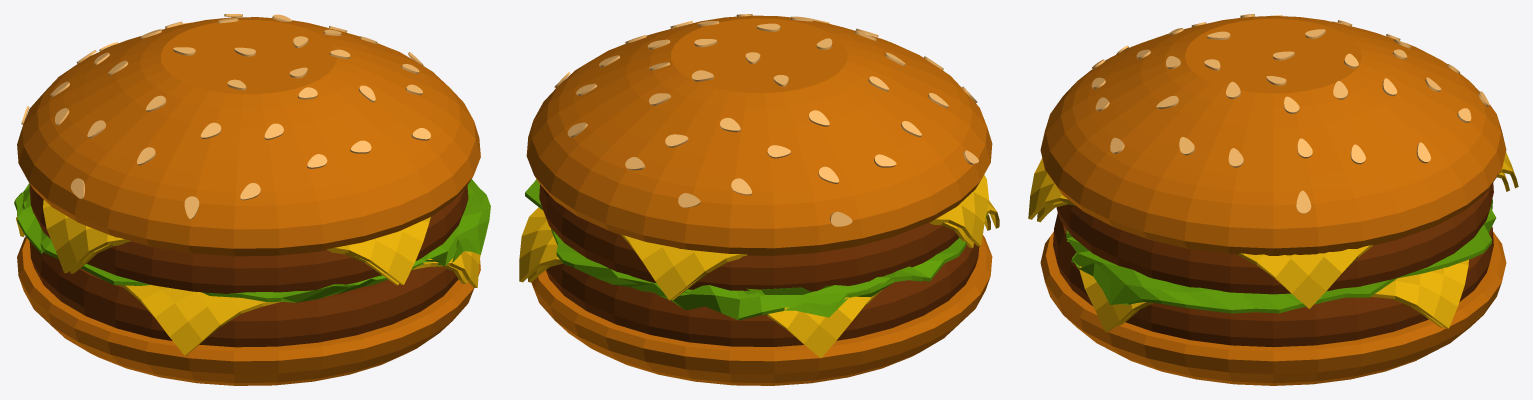
The model's file is burger.glb.
The picture shows the model from 3 angles, left to right: view 1: azimuth 30°, elevation 25°; view 2: azimuth 150°, elevation 25°; view 3: azimuth 270°, elevation 25°; orthographic projection.
Parts seen in each view (by area): view 1: Circle.048, Circle.044, Circle.045, Circle.047, Circle.046, Plane.002, Plane.003, Plane.001; view 2: Circle.048, Circle.044, Circle.045, Circle.047, Circle.046, Plane.002, Plane.003, Plane.001; view 3: Circle.048, Circle.044, Circle.047, Circle.045, Circle.046, Plane.003, Plane.002, Plane.001, Circle.004.
Part boxes in pixels (x1,y1,x2,y2): Circle.048: [17, 17, 480, 254]; Circle.044: [17, 236, 480, 385]; Circle.045: [29, 241, 458, 347]; Circle.047: [29, 184, 468, 293]; Circle.046: [14, 179, 490, 302]; Plane.002: [16, 216, 480, 355]; Plane.003: [43, 199, 430, 284]; Plane.001: [70, 242, 398, 285]; Circle.048: [526, 15, 992, 254]; Circle.044: [531, 235, 992, 385]; Circle.045: [546, 243, 979, 346]; Circle.047: [539, 184, 959, 291]; Circle.046: [525, 179, 986, 320]; Plane.002: [519, 201, 999, 357]; Plane.003: [621, 175, 989, 300]; Plane.001: [672, 222, 973, 300]; Circle.048: [1040, 16, 1506, 254]; Circle.044: [1040, 231, 1506, 385]; Circle.047: [1056, 182, 1493, 294]; Circle.045: [1053, 212, 1493, 347]; Circle.046: [1066, 199, 1496, 313]; Plane.003: [1028, 152, 1518, 308]; Plane.002: [1079, 259, 1468, 332]; Plane.001: [1037, 172, 1509, 308]; Circle.004: [1117, 228, 1429, 255].
Size of the model in its own units: 0.32 by 0.1932 by 0.3313.
